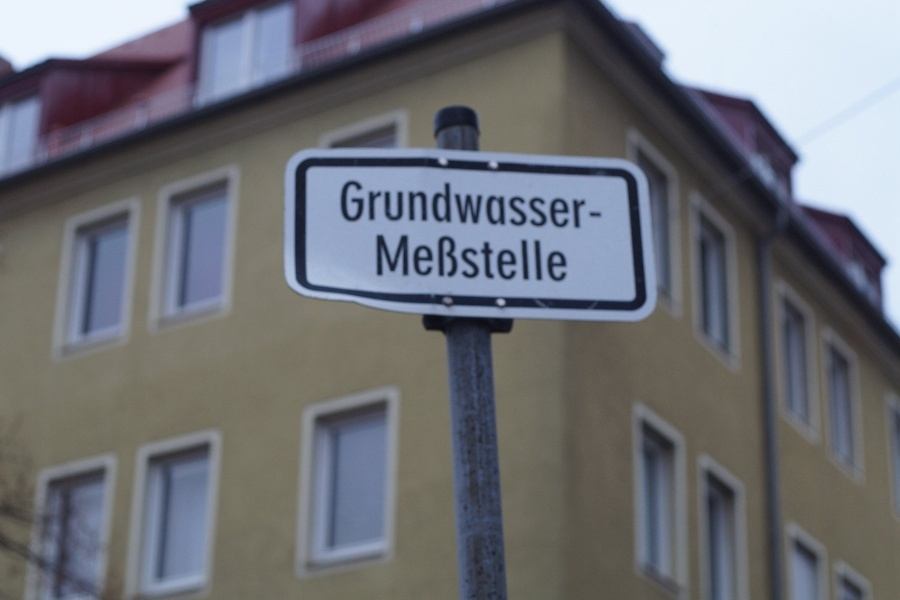text: (353, 176, 368, 233), (369, 176, 384, 233), (385, 176, 400, 233), (401, 176, 416, 233), (417, 176, 432, 233), (433, 176, 448, 233), (449, 176, 464, 233), (465, 176, 480, 233), (481, 176, 496, 233), (497, 176, 512, 233), (513, 176, 528, 233), (529, 176, 544, 233), (545, 176, 560, 233), (561, 176, 576, 233), (577, 176, 592, 233), (385, 231, 400, 284), (401, 231, 416, 284), (417, 231, 432, 284), (433, 231, 448, 284), (449, 231, 464, 284), (465, 231, 480, 284), (481, 231, 496, 284), (497, 231, 512, 284), (513, 231, 528, 284), (529, 231, 544, 284), (545, 231, 560, 284), (339, 176, 352, 233), (593, 176, 606, 233), (561, 231, 571, 284), (375, 231, 384, 284)
